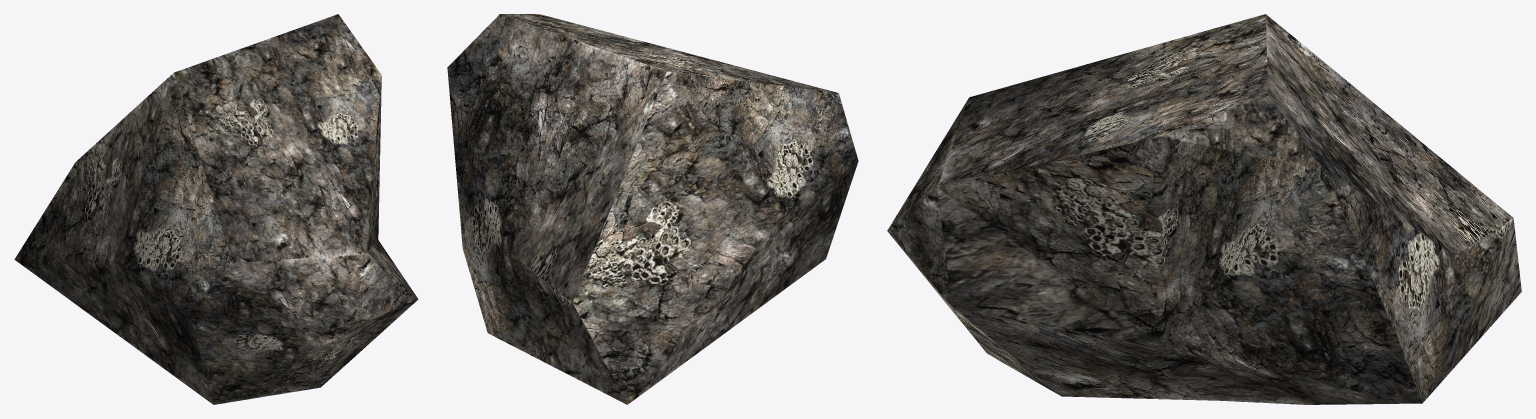
File: pir_m_prp_dvj_rockBare_c.fbx
3 renders of one model, left to right at view 1: azimuth 30°, elevation 25°; view 2: azimuth 150°, elevation 25°; view 3: azimuth 270°, elevation 25°, orthographic. The views are drawn at different scales.
Parts seen in each view (by area): view 1: lod_high; view 2: lod_high; view 3: lod_high.
Part boxes in pixels (left/top/right/bottom): lod_high: left=14, top=14, right=418, bottom=404; lod_high: left=447, top=14, right=858, bottom=404; lod_high: left=887, top=14, right=1521, bottom=404.
Bounding box in the file's own units: 2425 × 2146 × 3650.
Materials: 1 (1 with a texture image).
